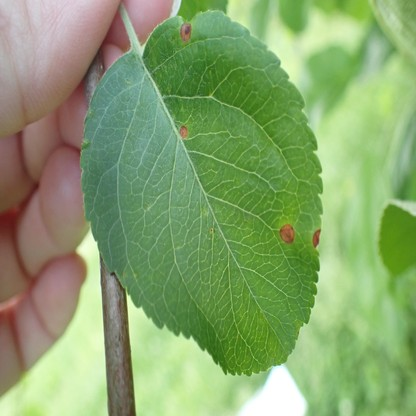frogeye_leaf_spot: (280, 224, 295, 244), (181, 21, 192, 42), (313, 230, 321, 248), (179, 126, 188, 139)
